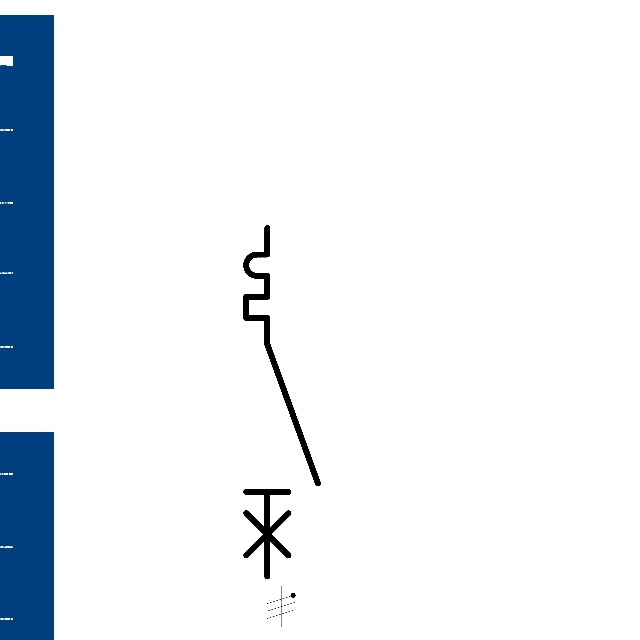interruptor_termomagnetico: (237, 219, 326, 585)
